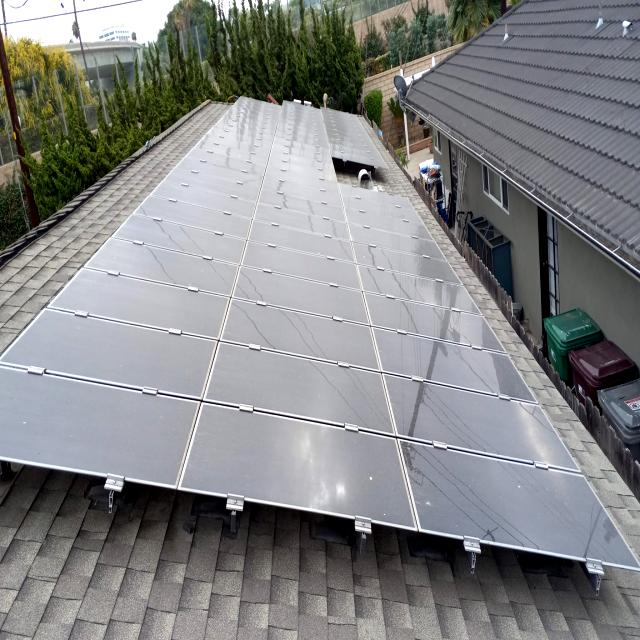dust: (286, 408, 388, 516), (512, 394, 566, 502), (395, 464, 453, 529), (10, 377, 45, 452)
